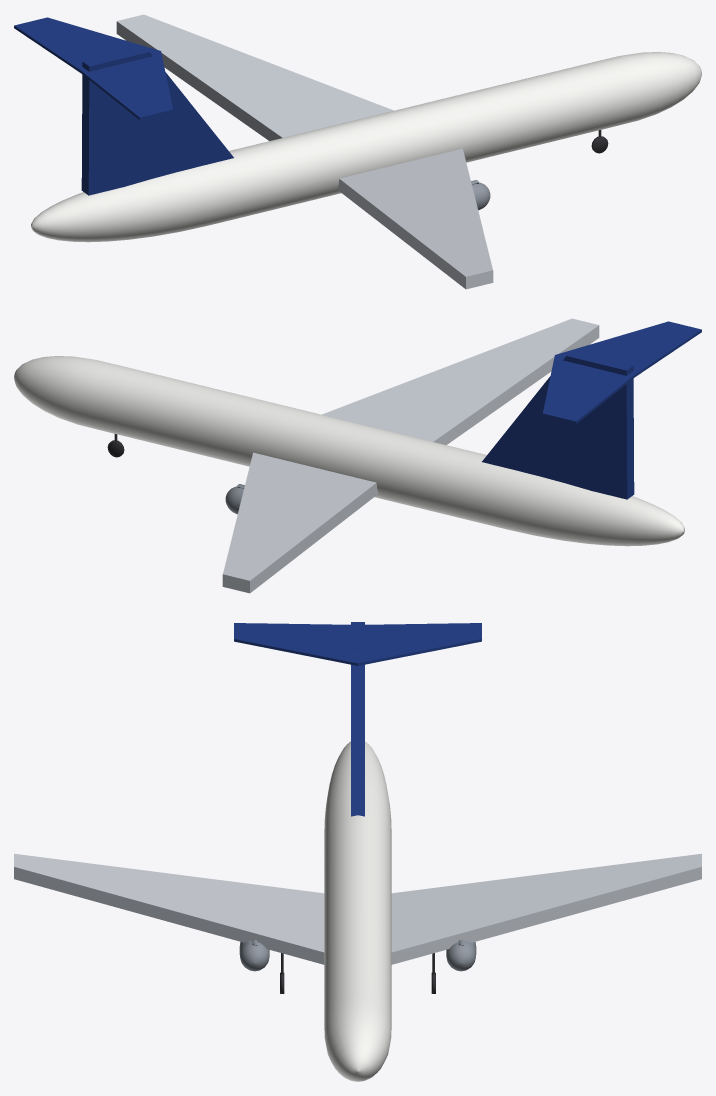
3 views of the same model, one above another, from view 1: azimuth 30°, elevation 25°; view 2: azimuth 150°, elevation 25°; view 3: azimuth 270°, elevation 25° (orthographic).
Visible parts, largest first — view 1: fuselage, wings, tail; view 2: fuselage, wings, tail; view 3: wings, fuselage, tail, engines.
Part boxes in pixels (box(x1,y1,x2,y2)): fuselage: box(31, 52, 701, 242); wings: box(116, 14, 493, 289); tail: box(14, 17, 233, 195); fuselage: box(14, 356, 684, 546); wings: box(222, 318, 599, 593); tail: box(482, 321, 701, 499); wings: box(14, 853, 701, 964); fuselage: box(324, 741, 391, 1081); tail: box(234, 622, 481, 816); engines: box(239, 939, 476, 971).
Size of the model in its own units: 31.7 by 9.69 by 28.7.
